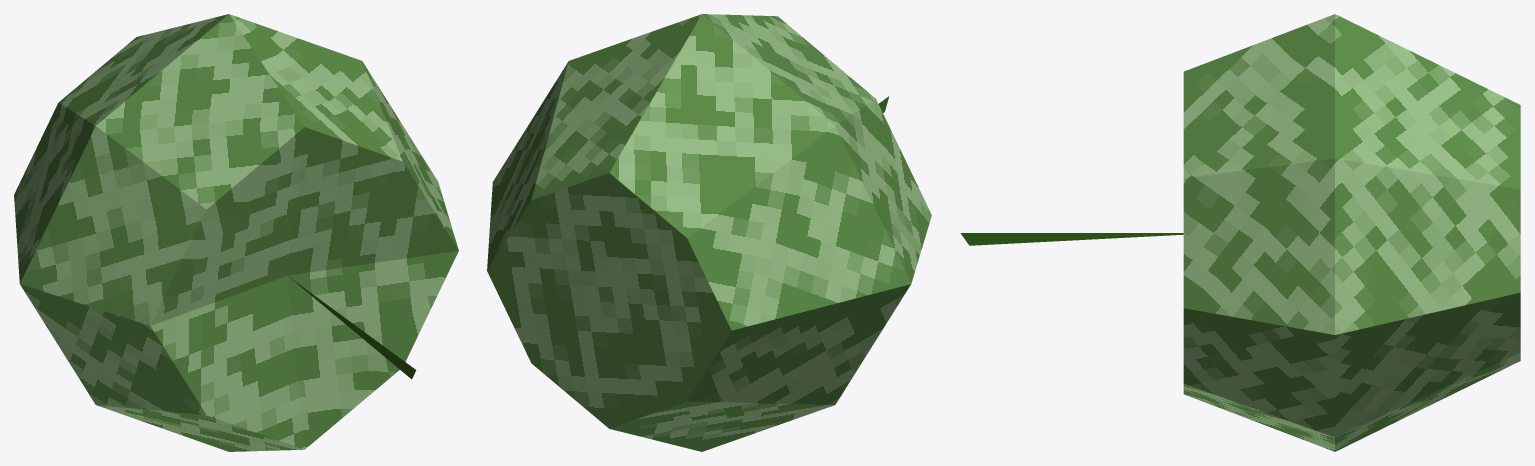
The model's file is honeydew.fbx.
3 views of the same model, side by side, from view 1: azimuth 30°, elevation 25°; view 2: azimuth 150°, elevation 25°; view 3: azimuth 270°, elevation 25° (orthographic).
Visible parts, largest first — view 1: Cube; view 2: Cube; view 3: Cube.
Boxes of the visible parts, <box> form: Cube: <box>14,14,458,451</box>; Cube: <box>487,14,931,451</box>; Cube: <box>960,14,1520,451</box>.
Bounding box in the file's own units: 164 × 164 × 190.
Materials: 1 (1 with a texture image).
